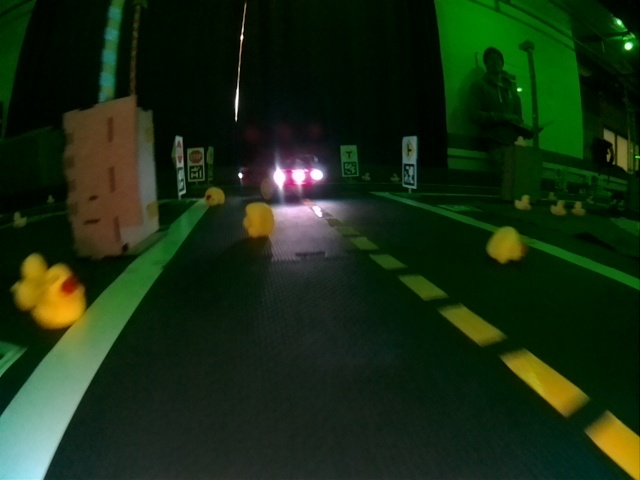Duckie: (36, 275, 87, 326), (11, 253, 44, 311), (486, 227, 524, 262), (244, 203, 274, 238), (205, 189, 225, 205), (13, 211, 28, 229), (515, 194, 531, 208), (553, 200, 563, 216), (575, 202, 585, 215)
Duckiebot: (257, 153, 325, 200)
Intersection sign: (403, 139, 416, 161), (342, 147, 357, 158)
QR code: (403, 163, 415, 186), (343, 161, 358, 176), (190, 165, 203, 180), (178, 168, 185, 193)
Stop sign: (189, 149, 205, 162), (176, 141, 184, 164)
